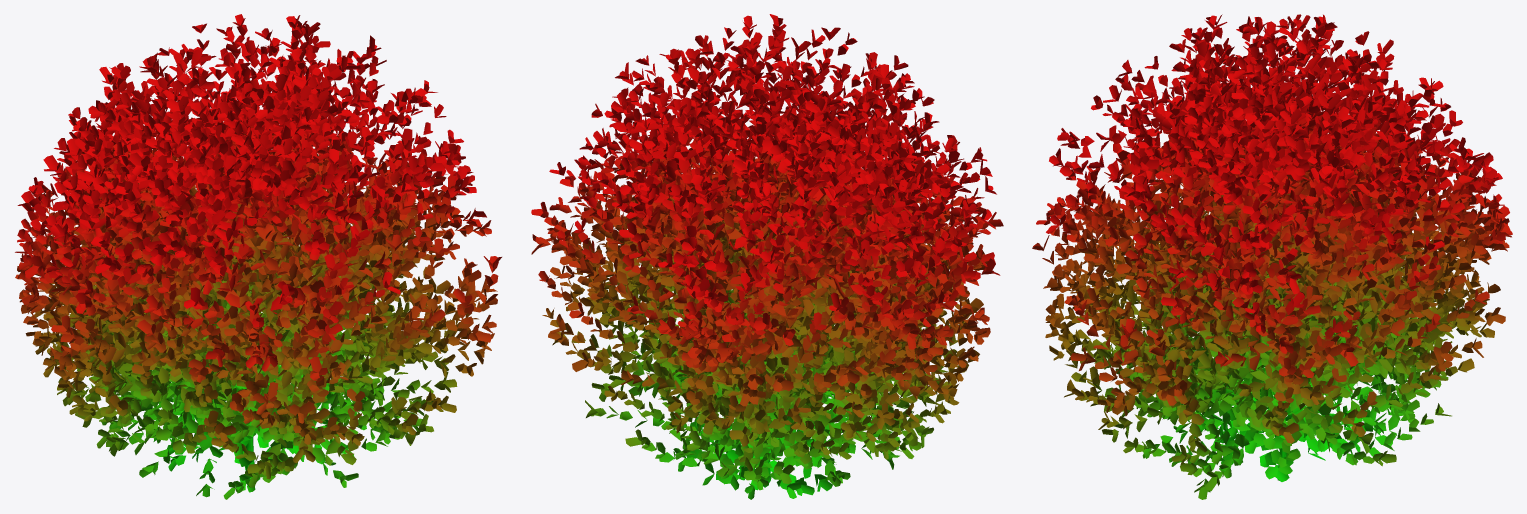
File: Var4_LOD4.fbx
3 views of the same model, side by side, from view 1: azimuth 30°, elevation 25°; view 2: azimuth 150°, elevation 25°; view 3: azimuth 270°, elevation 25° (orthographic).
Parts seen in each view (by area): view 1: _fx39_Var4_LOD4; view 2: _fx39_Var4_LOD4; view 3: _fx39_Var4_LOD4.
Part boxes in pixels (x1=…): _fx39_Var4_LOD4: x1=15, y1=14, x2=501, y2=499; _fx39_Var4_LOD4: x1=531, y1=14, x2=1003, y2=499; _fx39_Var4_LOD4: x1=1032, y1=14, x2=1512, y2=499.
Size of the model in its own units: 78.62 by 79.16 by 76.41.
